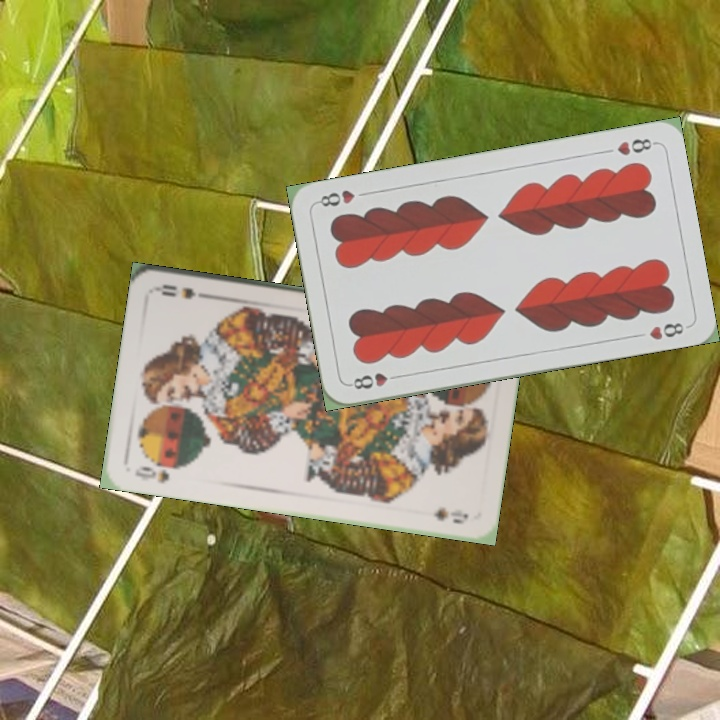H8: (346, 368, 405, 392), (613, 134, 658, 158)
SO: (130, 460, 182, 486)
